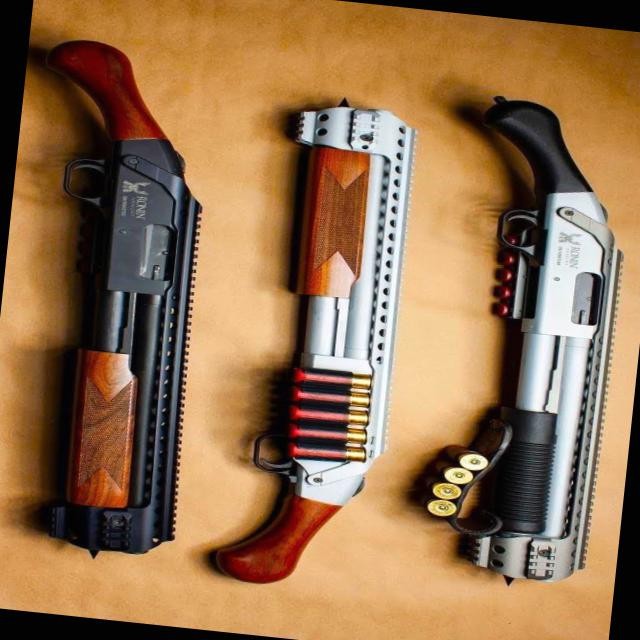long weapon: (157, 56, 424, 638), (0, 31, 265, 589), (416, 61, 640, 613)
